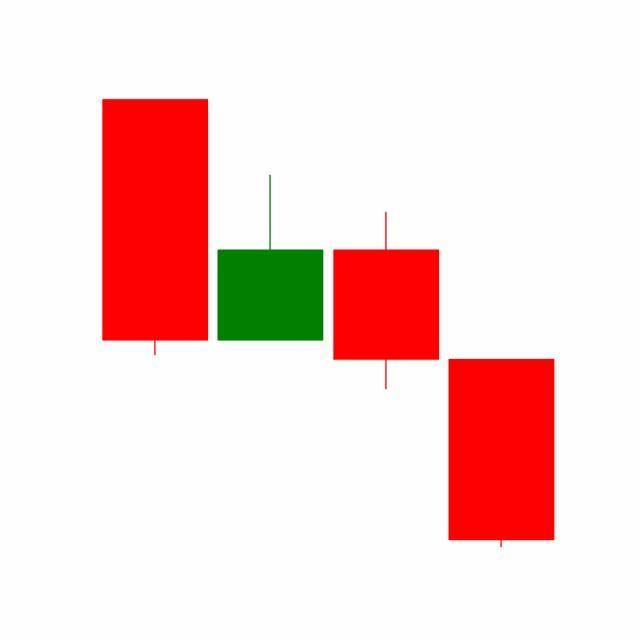Marubozu: (444, 357, 560, 551)
